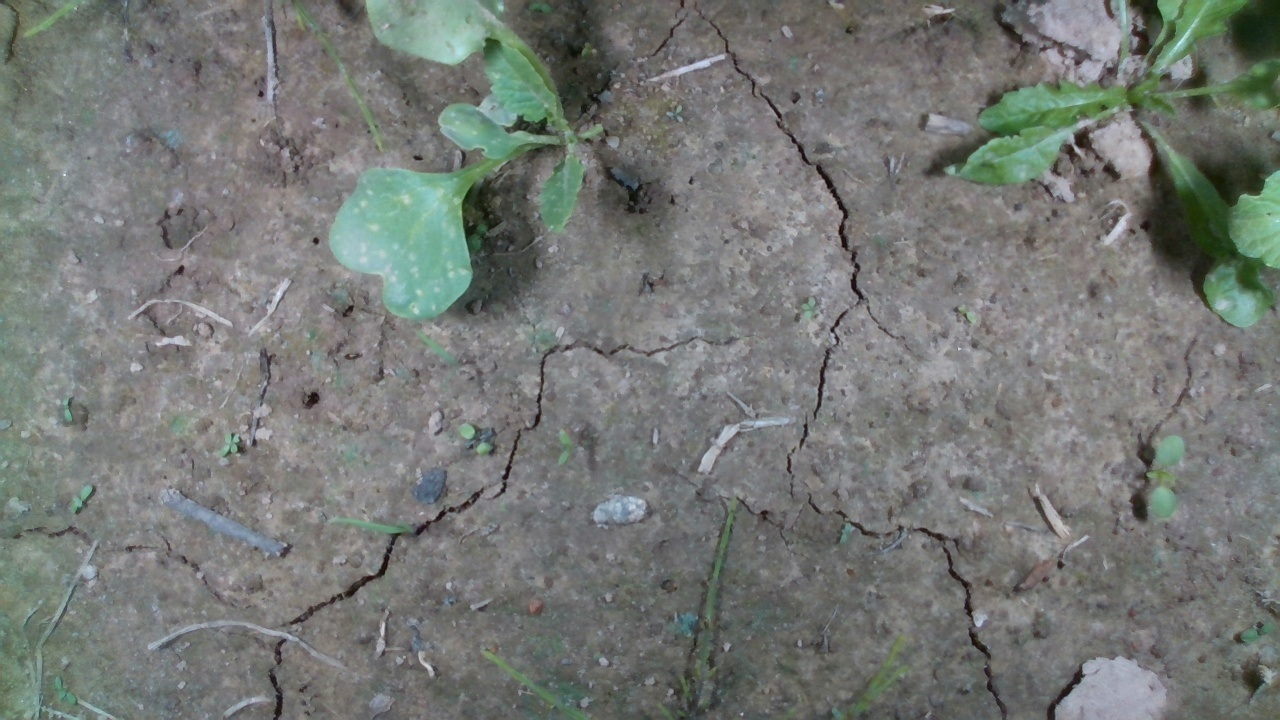weed: (1143, 432, 1185, 522), (456, 420, 494, 456), (556, 425, 574, 467)
